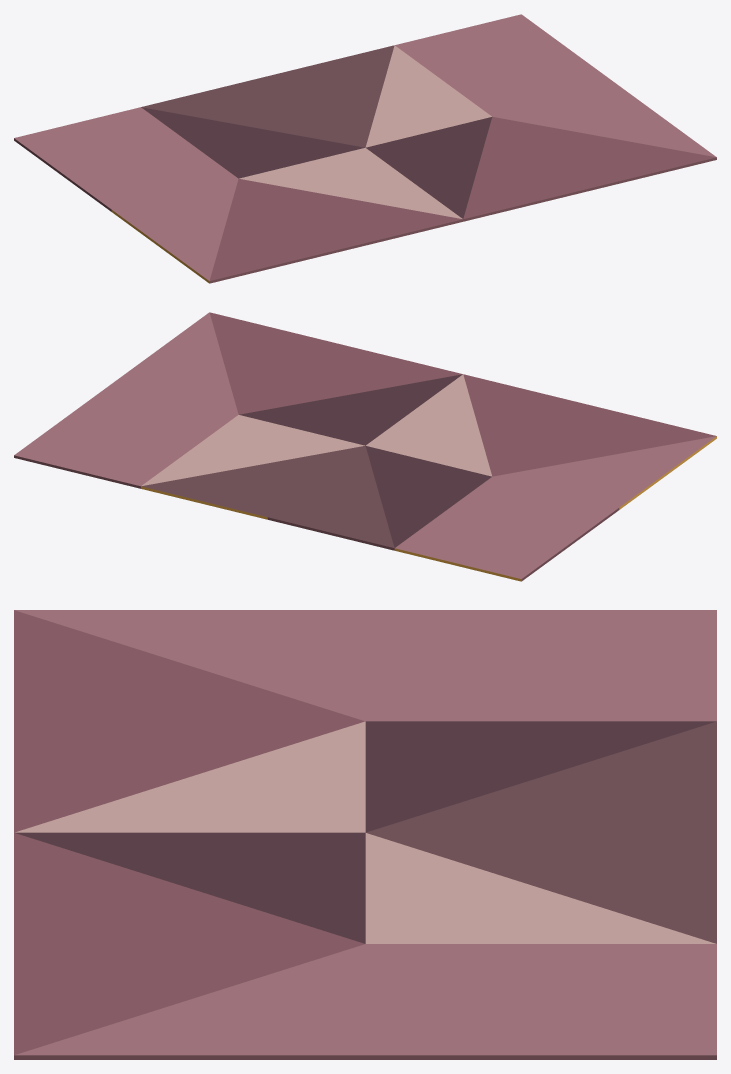
The model's file is Accesories_Carpet.009.glb.
3 renders of one model, top to bottom at view 1: azimuth 30°, elevation 25°; view 2: azimuth 150°, elevation 25°; view 3: azimuth 270°, elevation 25°, orthographic. The views are drawn at different scales.
Parts seen in each view (by area): view 1: Accesories_Carpet.009; view 2: Accesories_Carpet.009; view 3: Accesories_Carpet.009.
Boxes of the visible parts, bbox=[...] form: Accesories_Carpet.009: bbox=[14, 14, 716, 283]; Accesories_Carpet.009: bbox=[14, 312, 716, 581]; Accesories_Carpet.009: bbox=[14, 610, 716, 1059].
Bounding box in the file's own units: 2.81 × 0.0134 × 1.88.
1 material, 1 textured.
